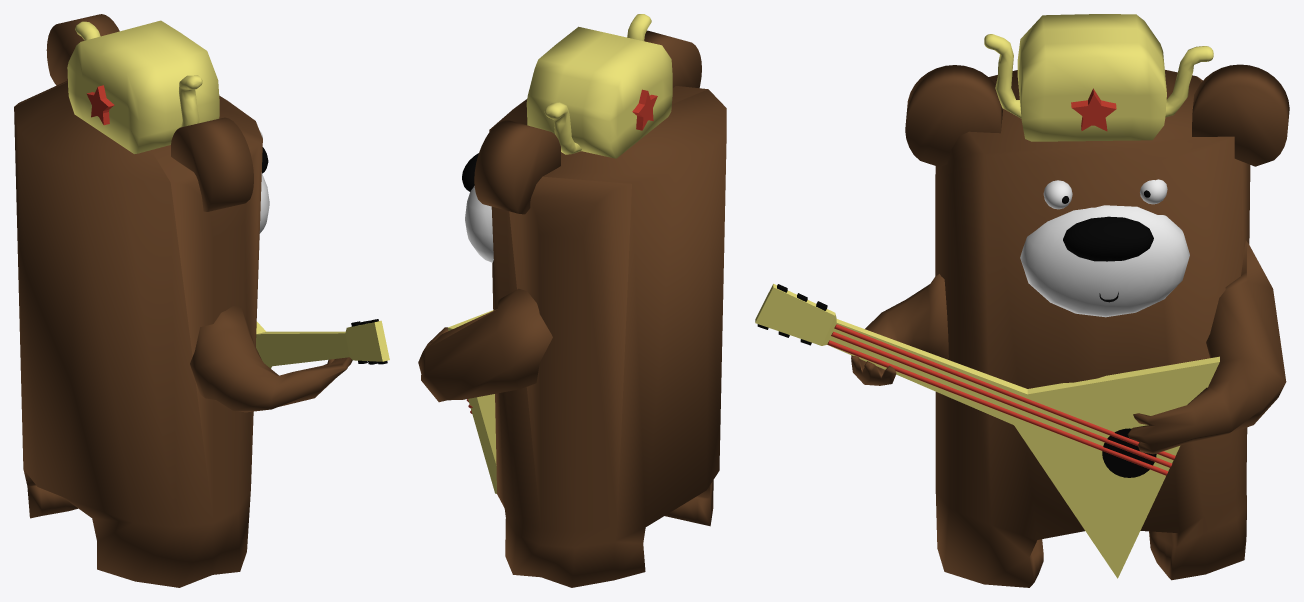
The model's file is анимация мед.fbx.
The picture shows the model from 3 angles, left to right: view 1: azimuth 30°, elevation 25°; view 2: azimuth 150°, elevation 25°; view 3: azimuth 270°, elevation 25°; orthographic projection. The views are drawn at different scales.
Parts seen in each view (by area): view 1: Cube.011, Cylinder.002, Cylinder.003; view 2: Cube.011, Cylinder.005, Cylinder.003; view 3: Cube.011, Cylinder.003, Cylinder.005, Cylinder.002.
Boxes of the visible parts, x1,y1,x2,y2 form: Cube.011: (14,20,389,587); Cylinder.002: (190,306,352,412); Cylinder.003: (46,14,253,211); Cube.011: (447,14,726,587); Cylinder.005: (418,288,552,402); Cylinder.003: (474,30,701,214); Cube.011: (755,14,1250,587); Cylinder.003: (905,64,1289,167); Cylinder.005: (1127,240,1286,454); Cylinder.002: (851,274,948,385).
Size of the model in its own units: 197 by 381 by 352.
